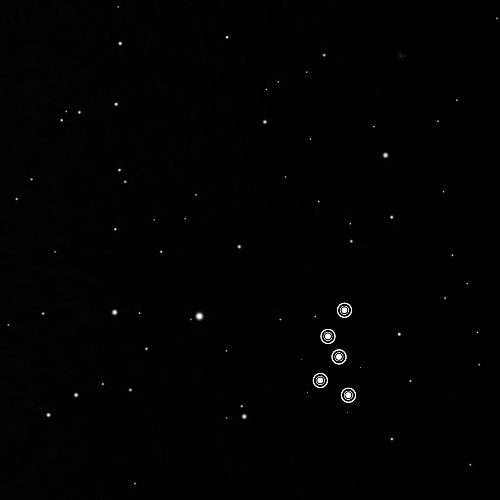cassiopeia: (309, 292, 365, 410)
